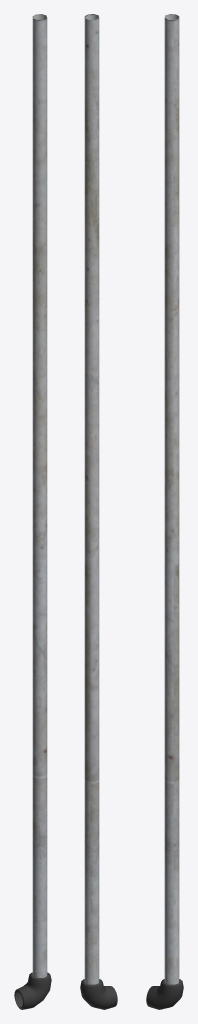
File: SM_Pipe_200_Angled_Vertical_01a.glb
The picture shows the model from 3 angles, left to right: view 1: azimuth 30°, elevation 25°; view 2: azimuth 210°, elevation 25°; view 3: azimuth 330°, elevation 25°; orthographic projection.
Parts seen in each view (by area): view 1: SM_Pipe_200_Angled_Vertical_01a; view 2: SM_Pipe_200_Angled_Vertical_01a; view 3: SM_Pipe_200_Angled_Vertical_01a.
Boxes of the visible parts, x1=… form: SM_Pipe_200_Angled_Vertical_01a: x1=14, y1=14, x2=51, y2=1009; SM_Pipe_200_Angled_Vertical_01a: x1=80, y1=14, x2=117, y2=1009; SM_Pipe_200_Angled_Vertical_01a: x1=146, y1=14, x2=183, y2=1009.
Bounding box in the file's own units: 0.0666 × 2.02 × 0.0457.
Materials: 1 (1 with a texture image).
